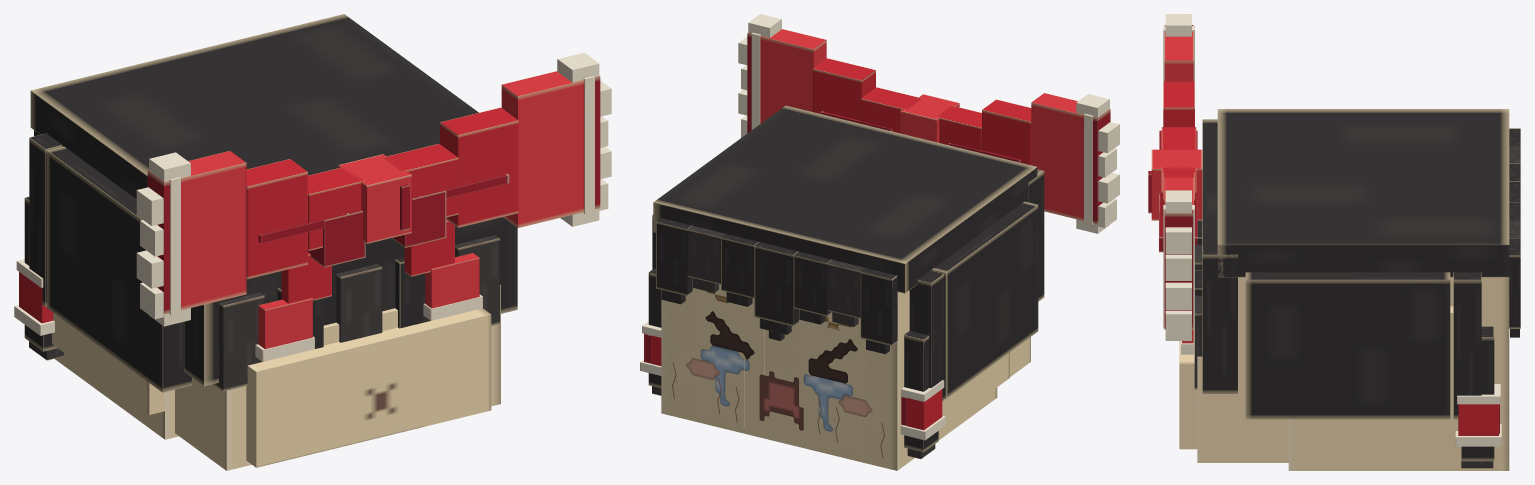
File: desiccation_reimu_2.obj
The picture shows the model from 3 angles, left to right: view 1: azimuth 30°, elevation 25°; view 2: azimuth 150°, elevation 25°; view 3: azimuth 270°, elevation 25°; orthographic projection. The views are drawn at different scales.
Parts seen in each view (by area): view 1: desiccation_reimu_2; view 2: desiccation_reimu_2; view 3: desiccation_reimu_2.
Boxes of the visible parts, x1,y1,x2,y2 form: desiccation_reimu_2: [14, 14, 611, 470]; desiccation_reimu_2: [640, 14, 1119, 470]; desiccation_reimu_2: [1148, 14, 1520, 470].
Bounding box in the file's own units: 16.28 × 11.43 × 12.9.
1 material, 1 textured.
